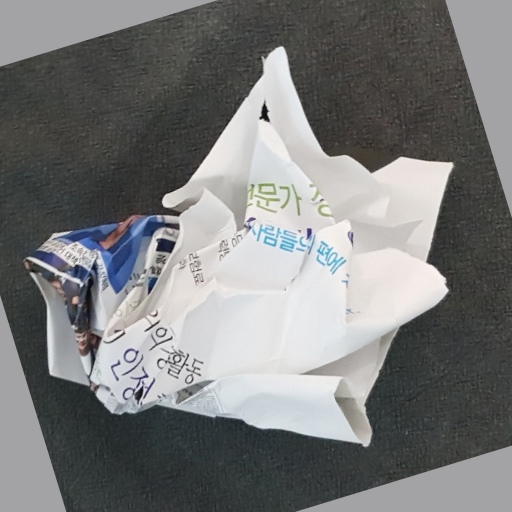Paper_3: (26, 42, 467, 445)
